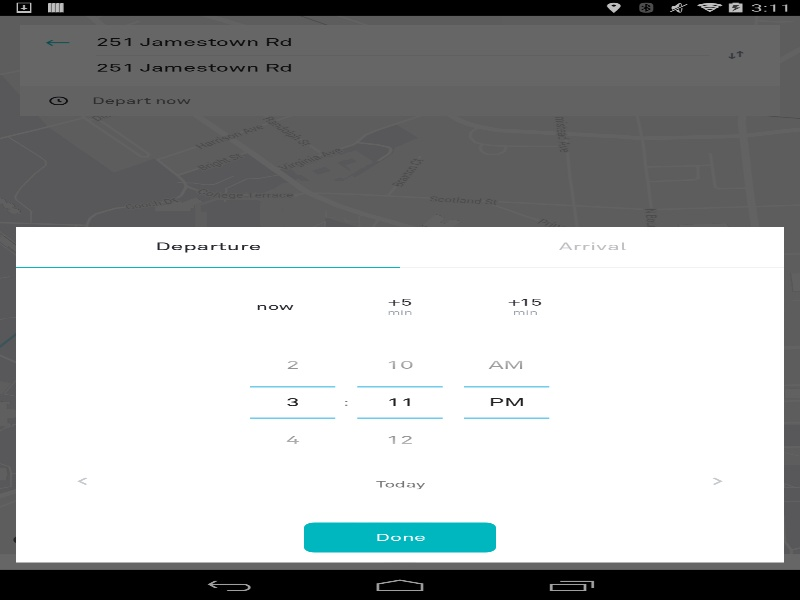Button: (463, 346, 549, 387), (250, 346, 335, 387), (250, 417, 335, 458), (357, 346, 442, 387), (357, 417, 442, 458)
Input: (463, 387, 549, 417), (250, 387, 335, 417), (357, 387, 442, 417)
